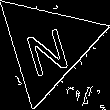N_N: (21, 15, 74, 75)
